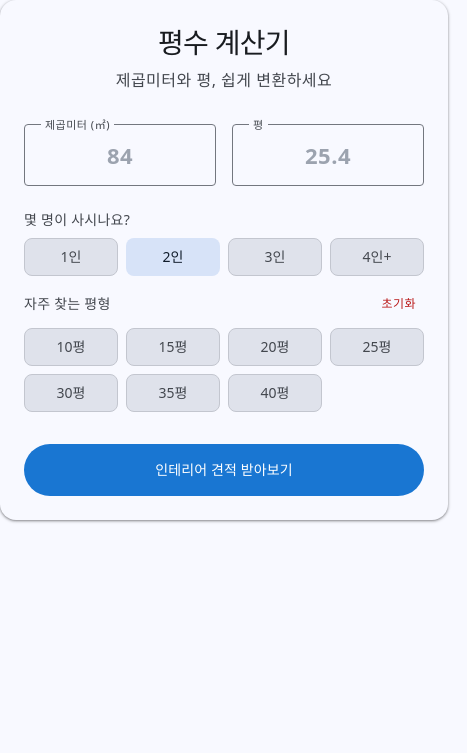
Test: Space Simulator (Calculator) › Core Functionality › 평 입력 시 제곱미터 필드가 자동 업데이트된다
The image size is (467, 753).
Type "25.41" into the field with placeholder "25.4" at (328, 155), box [249, 125, 407, 185]
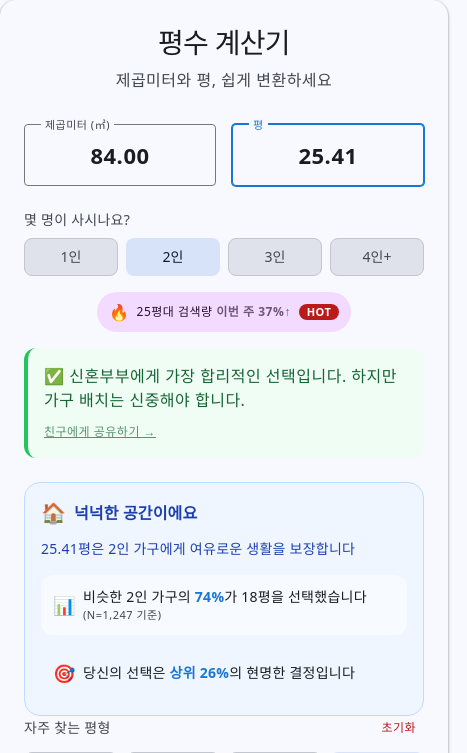
Expected: the field with placeholder "84" holds "84.00", [41, 125, 199, 185]
